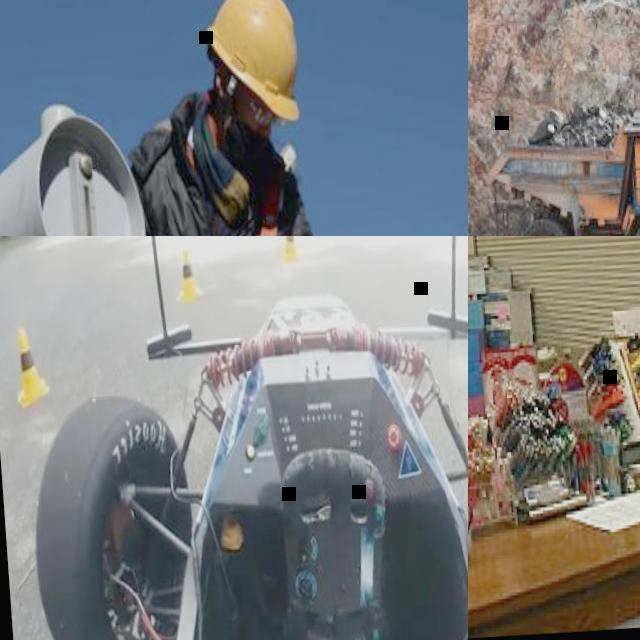helmet: (203, 0, 304, 122)
machinery: (479, 97, 640, 236)
mask: (218, 106, 266, 176)
no_vest: (140, 117, 278, 236)
person: (79, 0, 428, 236)
safety_cone: (4, 305, 61, 406), (171, 236, 207, 310), (274, 236, 312, 258)
vehicle: (0, 236, 468, 640)
